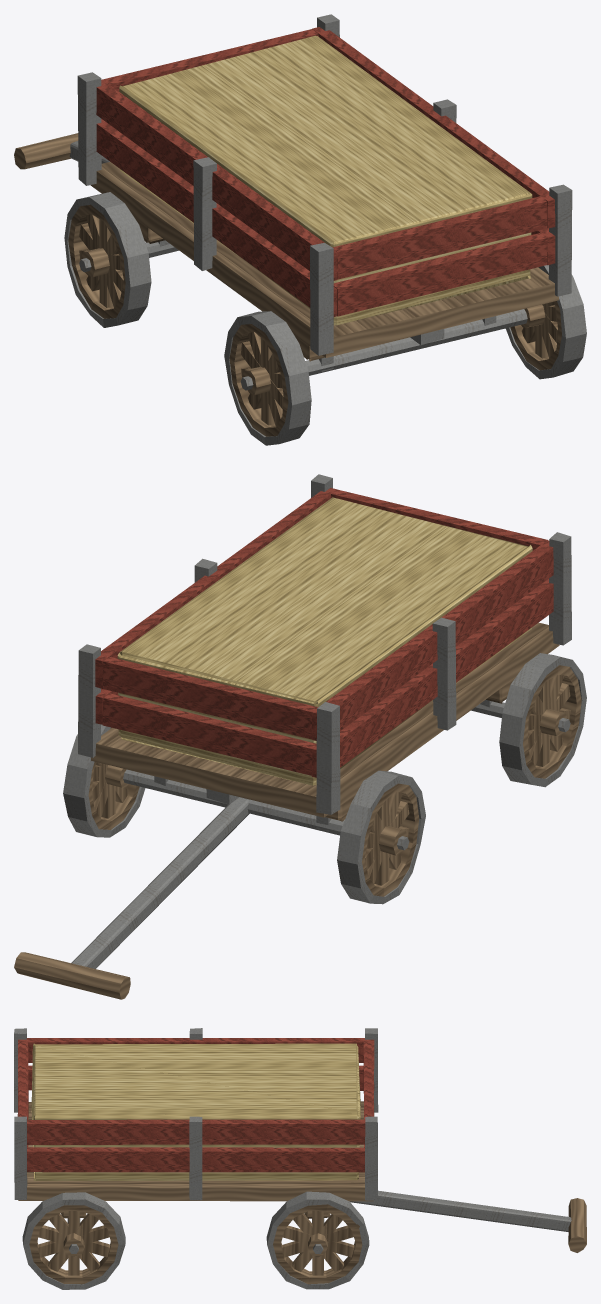
The model's file is pull_wagon.glb.
The picture shows the model from 3 angles, top to bottom: view 1: azimuth 30°, elevation 25°; view 2: azimuth 150°, elevation 25°; view 3: azimuth 270°, elevation 25°; orthographic projection. The views are drawn at different scales.
Visible parts, largest first — view 1: PullWagon, Wheel_L1, Wheel_L2, Wheel_R2; view 2: PullWagon, Wheel_L1, Wheel_L2, Wheel_R1; view 3: PullWagon, Wheel_R2, Wheel_R1.
Part boxes in pixels (x1,y1,x2,y2): PullWagon: (14,14,572,375); Wheel_L1: (64,192,151,327); Wheel_L2: (224,311,311,445); Wheel_R2: (505,265,586,379); PullWagon: (14,474,571,999); Wheel_L1: (337,770,425,904); Wheel_L2: (499,653,586,787); Wheel_R1: (63,724,145,837); PullWagon: (14,1028,586,1252); Wheel_R2: (22,1192,125,1289); Wheel_R1: (266,1191,369,1289).
Size of the model in its own units: 1.55 by 0.9781 by 3.16.
4 materials, 4 textured.
